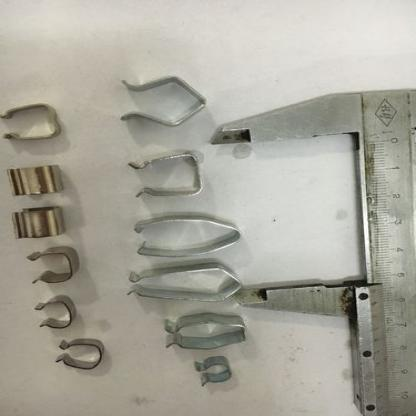FOD: (129, 211, 243, 262), (162, 310, 252, 351), (25, 246, 81, 289)
